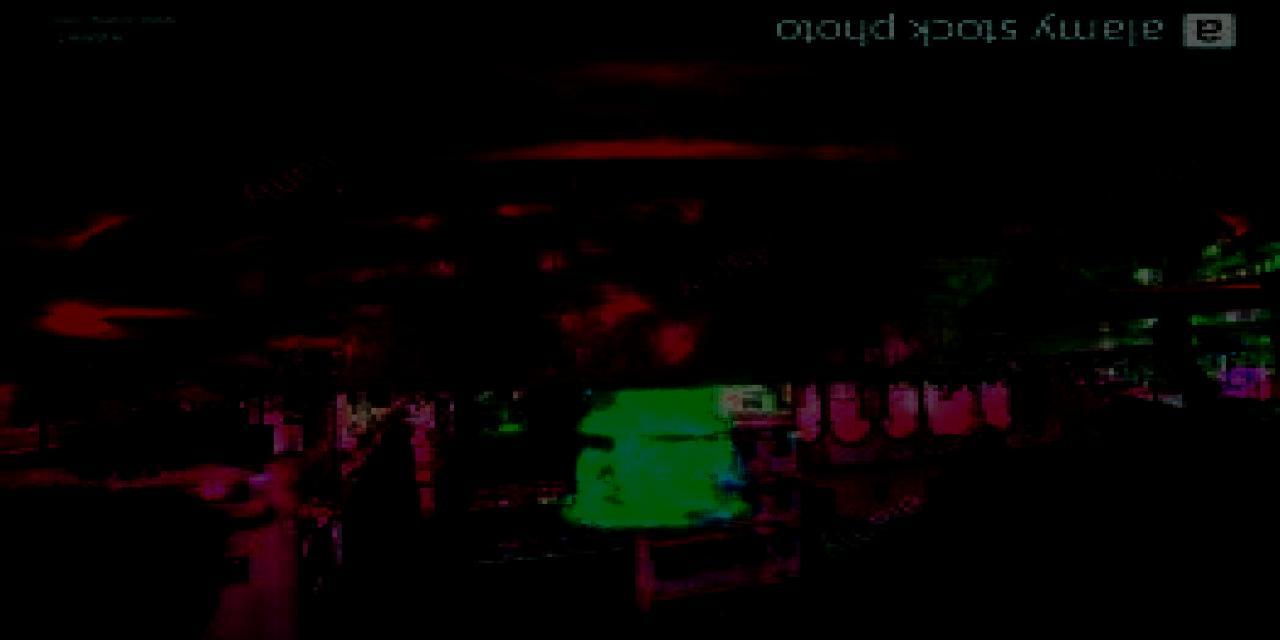Liontaria: (241, 257, 1000, 529)
